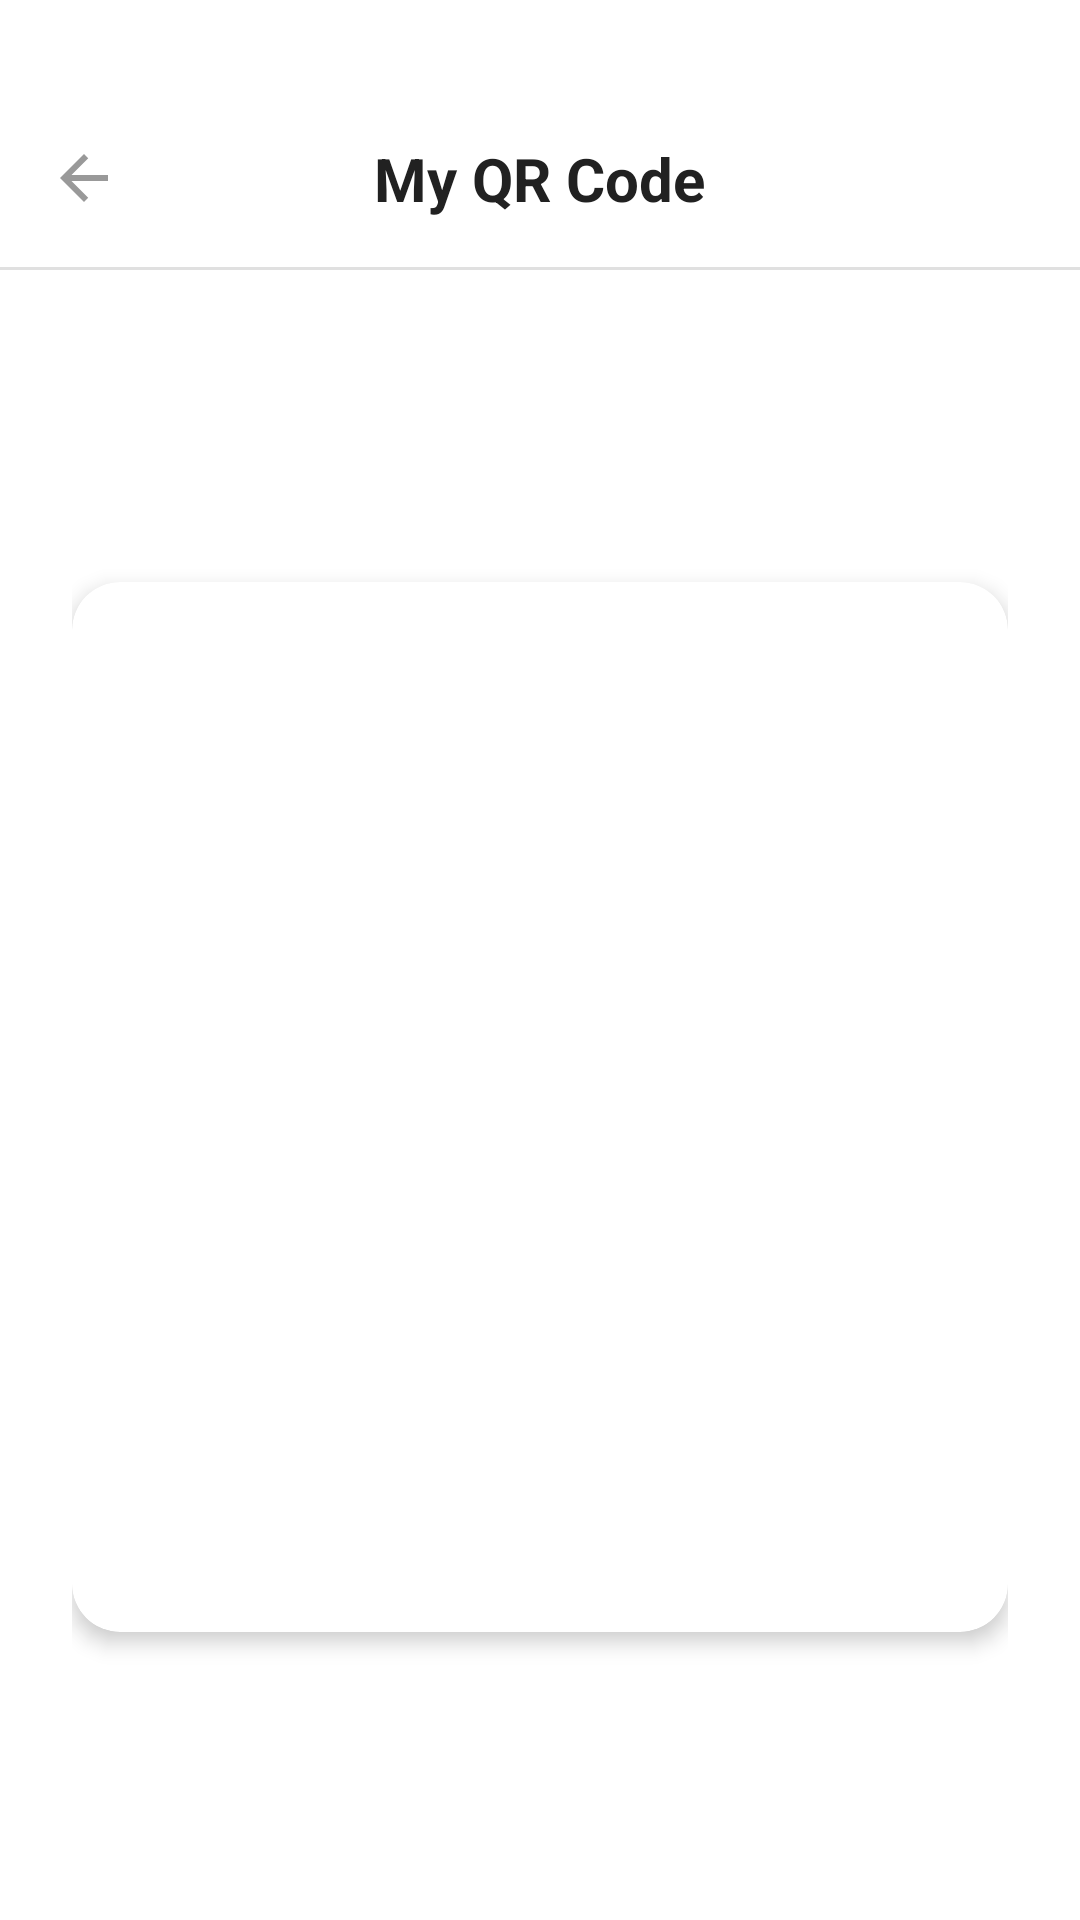

Locate icon controls on the screen. Image size 1080w x 1920h, boxes as (x1, y1, x2, y2).
Back: (60, 154, 108, 202)
